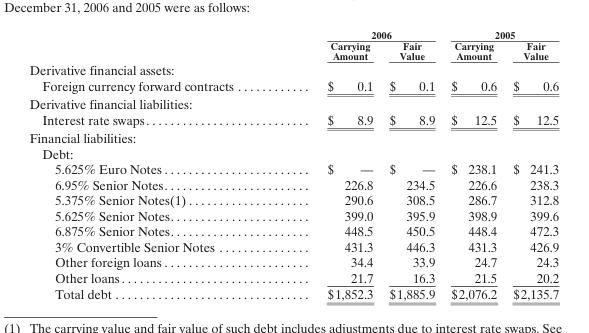table: (28, 28, 558, 301)
table column: (28, 28, 279, 301), (279, 28, 380, 301), (380, 28, 442, 301), (442, 28, 504, 301), (504, 28, 558, 301)
table column header: (28, 28, 558, 61)
table projected row header: (28, 94, 558, 111), (28, 128, 558, 145), (28, 61, 558, 77), (28, 145, 558, 160)
table row: (28, 39, 558, 61), (28, 77, 558, 94), (28, 94, 558, 111), (28, 111, 558, 128), (28, 128, 558, 145), (28, 61, 558, 77), (28, 160, 558, 176), (28, 191, 558, 207), (28, 207, 558, 223), (28, 238, 558, 254), (28, 269, 558, 285), (28, 285, 558, 301), (28, 145, 558, 160), (28, 176, 558, 191), (28, 223, 558, 238), (28, 254, 558, 269), (28, 28, 558, 39)
table spanning cell: (279, 28, 442, 39), (442, 28, 558, 39)
